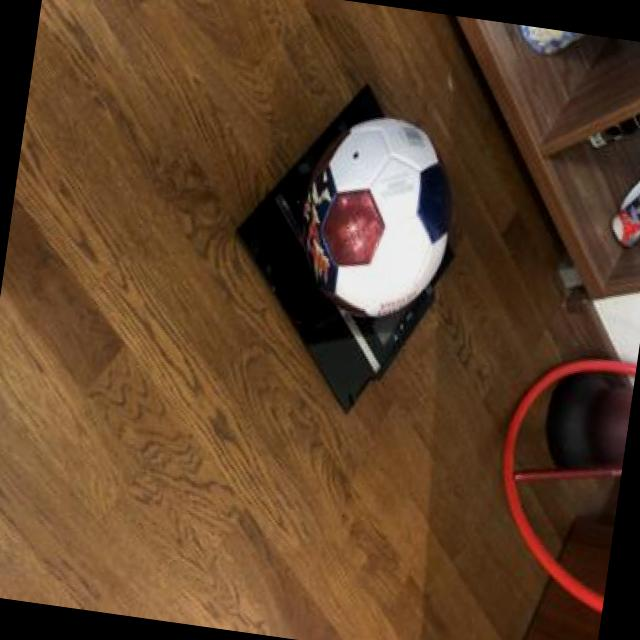Soccer Ball: (286, 104, 464, 324)
